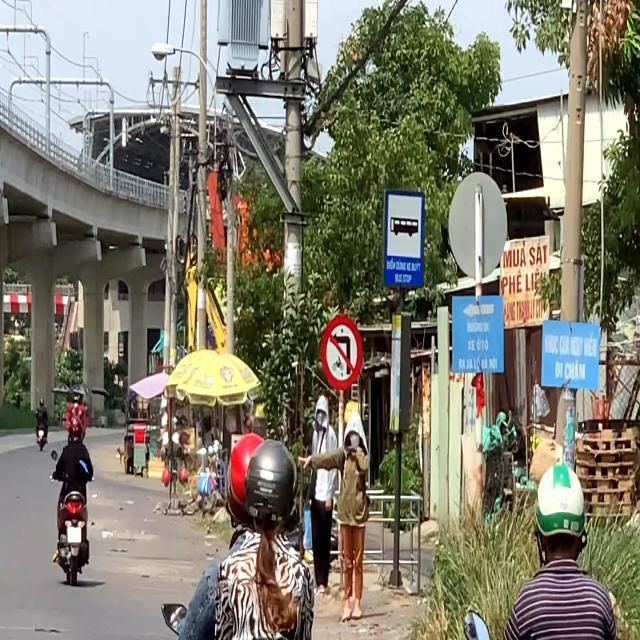I-434a: (384, 192, 426, 290)
P-123a: (321, 314, 361, 392)
